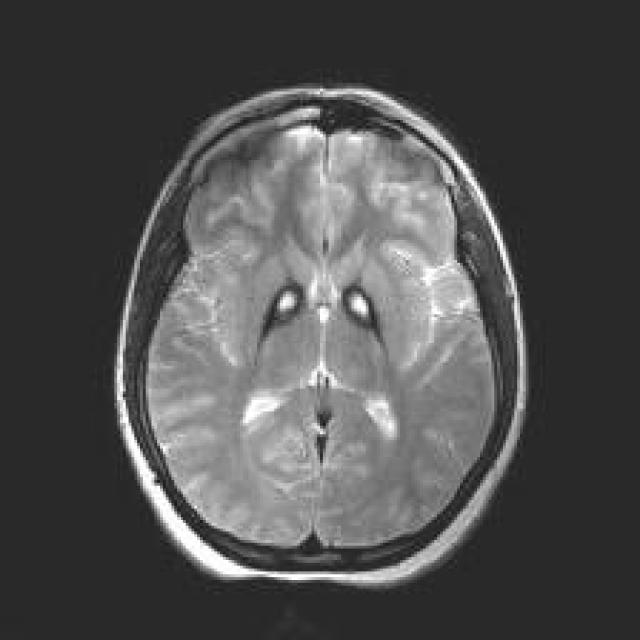no_tumor: (102, 70, 544, 590)
